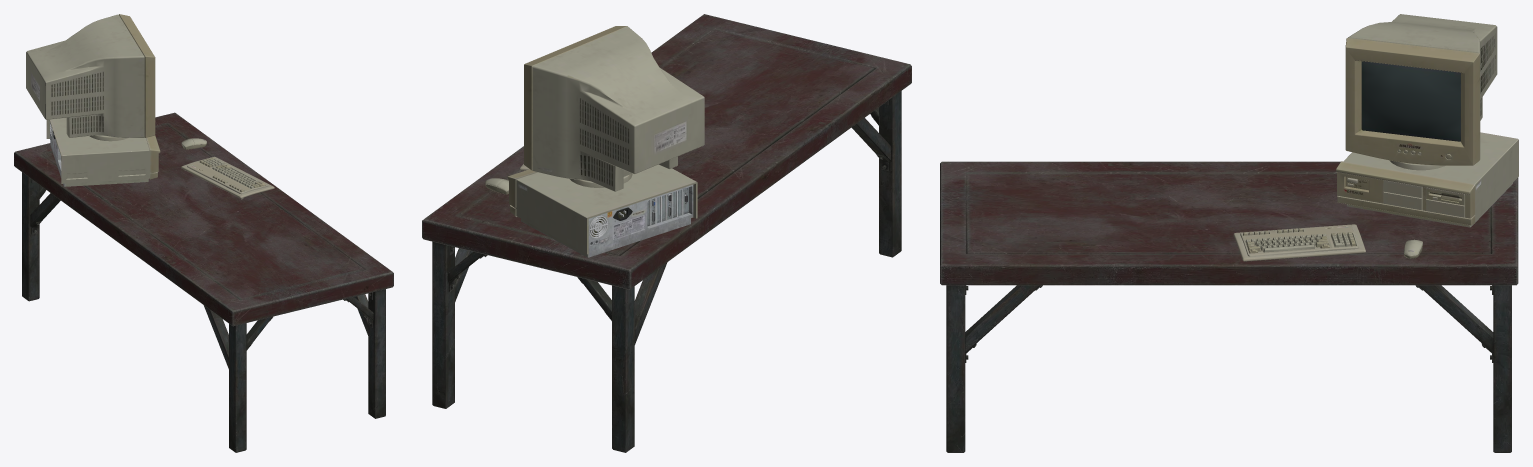
Rendered from old_computer.glb.
3 views of the same model, side by side, from view 1: azimuth 30°, elevation 25°; view 2: azimuth 150°, elevation 25°; view 3: azimuth 270°, elevation 25° (orthographic). The views are drawn at different scales.
Parts seen in each view (by area): view 1: Object_68, Object_10; view 2: Object_68, Object_10; view 3: Object_68, Object_10.
Boxes of the visible parts, bbox=[...] form: Object_68: bbox=[14, 112, 393, 452]; Object_10: bbox=[26, 14, 274, 199]; Object_68: bbox=[422, 14, 911, 452]; Object_10: bbox=[485, 26, 704, 257]; Object_68: bbox=[940, 161, 1518, 452]; Object_10: bbox=[1233, 14, 1518, 261].
Bounding box in the file's own units: 0.9309 × 1.38 × 2.02.
2 materials, 2 textured.
